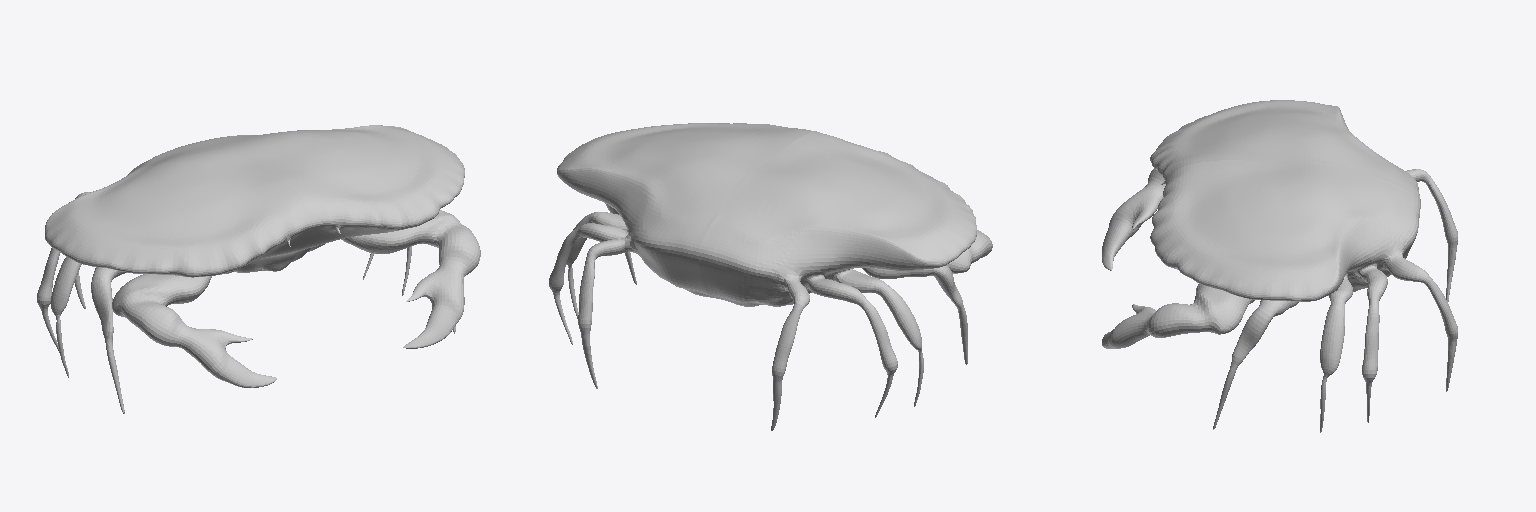
The model's file is CrabLow.OBJ.
The picture shows the model from 3 angles: view 1: azimuth 30°, elevation 25°; view 2: azimuth 150°, elevation 25°; view 3: azimuth 270°, elevation 25°; orthographic projection.
Visible parts, largest first — view 1: ZBrush_defualt_group; view 2: ZBrush_defualt_group; view 3: ZBrush_defualt_group.
Part boxes in pixels (left/top/right/bottom): ZBrush_defualt_group: left=37, top=125, right=480, bottom=413; ZBrush_defualt_group: left=549, top=123, right=992, bottom=430; ZBrush_defualt_group: left=1102, top=100, right=1457, bottom=432.
Bounding box in the file's own units: 2.53 × 1.18 × 1.98.